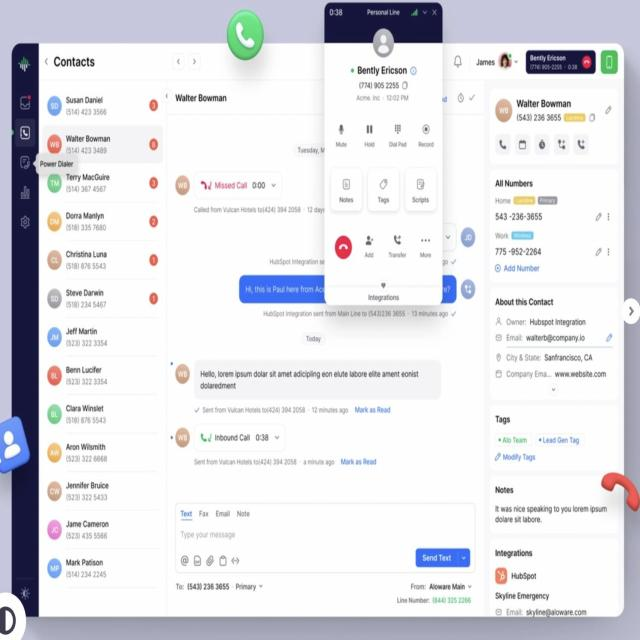button: (330, 165, 363, 212), (368, 165, 401, 211), (404, 166, 436, 212)
select: (416, 546, 469, 568)
